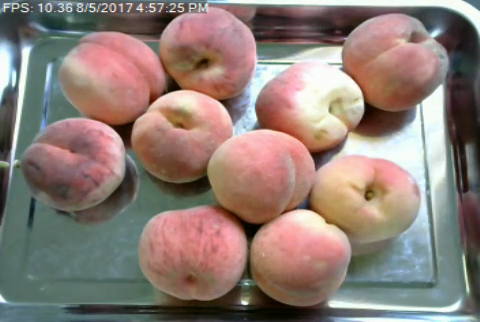Peach: (340, 11, 448, 113), (255, 58, 364, 156), (138, 206, 248, 301), (206, 128, 316, 223), (60, 29, 163, 126), (22, 117, 128, 211), (308, 153, 420, 240), (250, 209, 351, 305), (135, 89, 234, 185), (159, 6, 256, 99)
